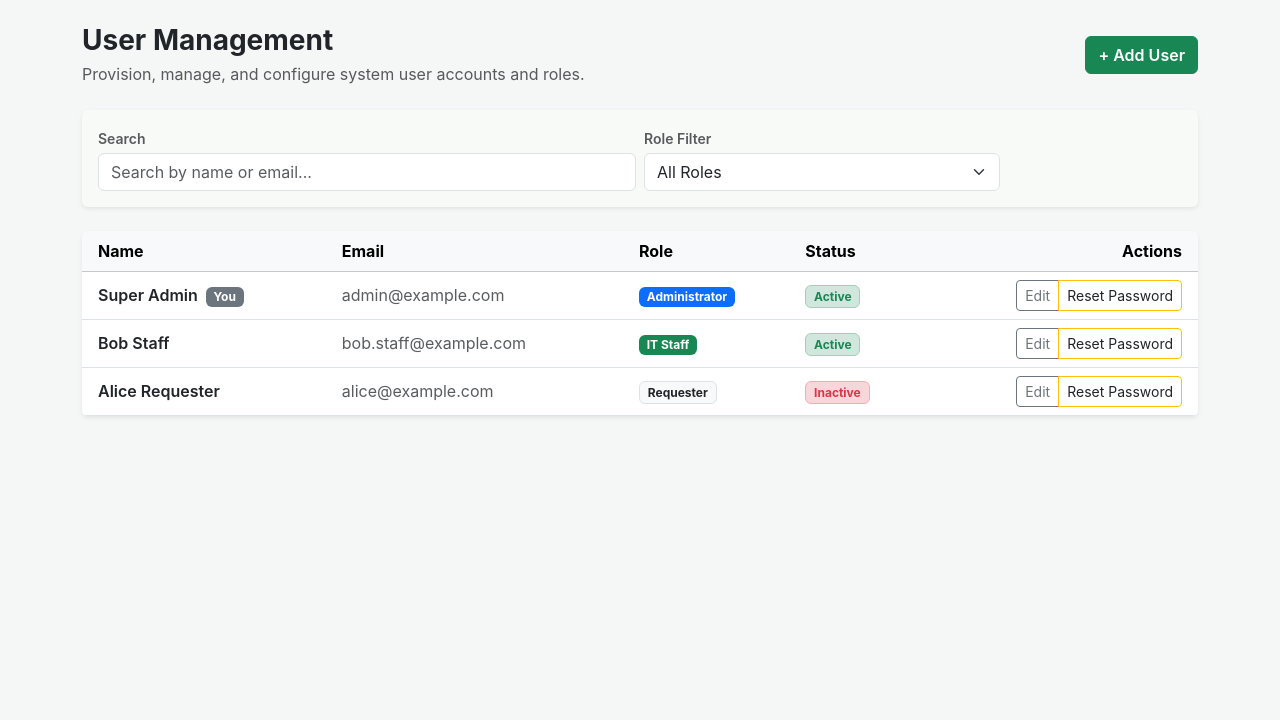
UserManagement UI Tests (UI-09, UI-10, UI-11, UI-15) › UI-15 & Invariants: Edit User & Self-Deactivation › disables Active toggle for logged-in admin with self-deactivation warning
Click the button with test id "edit-user-btn-1": (1038, 295) top-left (1016, 280), bottom-right (1059, 311)
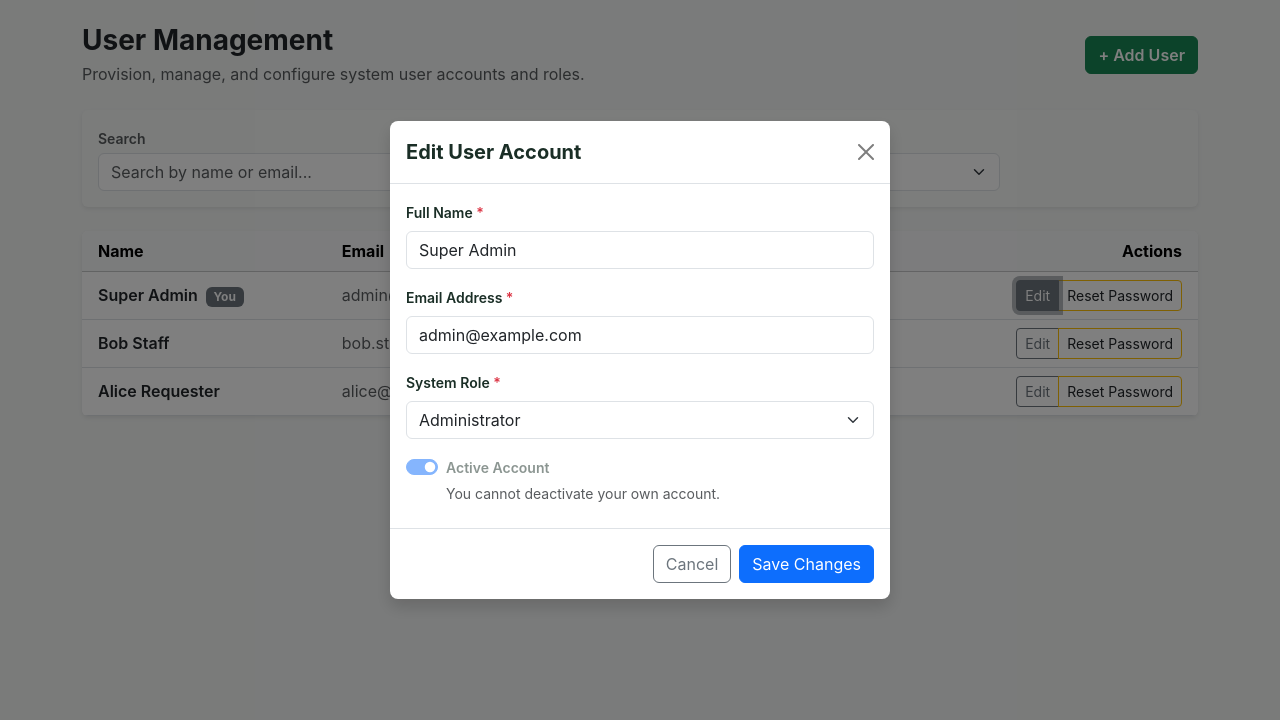
Expected: the dialog with test id "edit-user-modal" is shown
Expected: the checkbox with test id "edit-user-active" is disabled, top-left (406, 459), bottom-right (438, 475)
Expected: the text with test id "self-deactivation-warning" reads "You cannot deactivate your own account.", top-left (446, 485), bottom-right (720, 502)
